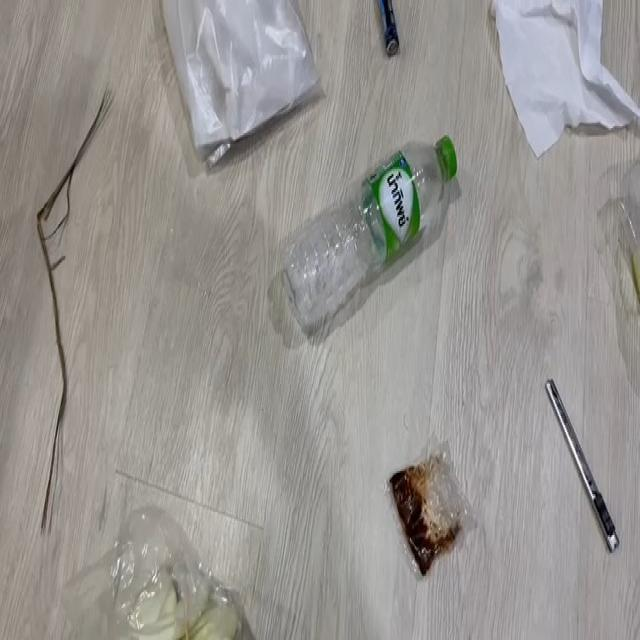Anorganik: (276, 132, 474, 332), (502, 0, 638, 148), (544, 380, 640, 560), (189, 0, 318, 106)
B3: (35, 75, 119, 496), (110, 531, 255, 632), (382, 447, 484, 580), (374, 0, 408, 50)
